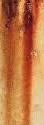Corrosion: (21, 1, 41, 125), (1, 1, 20, 125)
